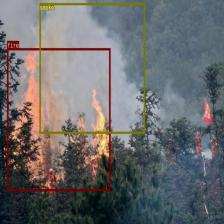fire: (7, 48, 110, 191)
smoke: (39, 3, 145, 133)
